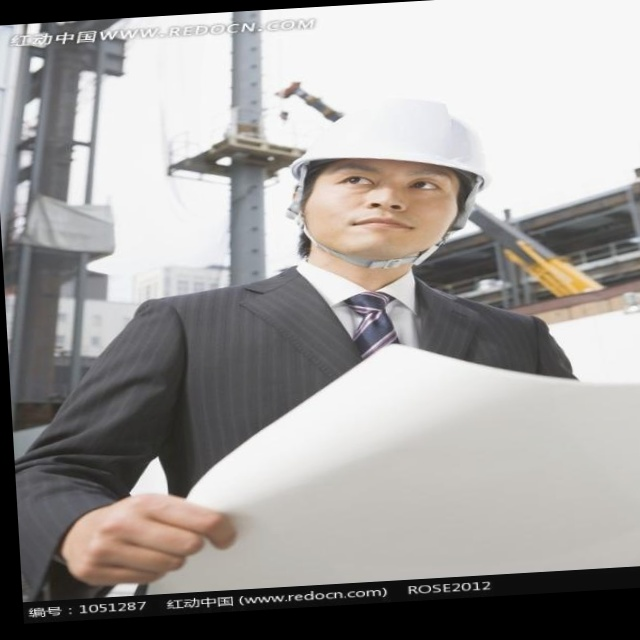Con_Casco: (288, 97, 488, 266)
